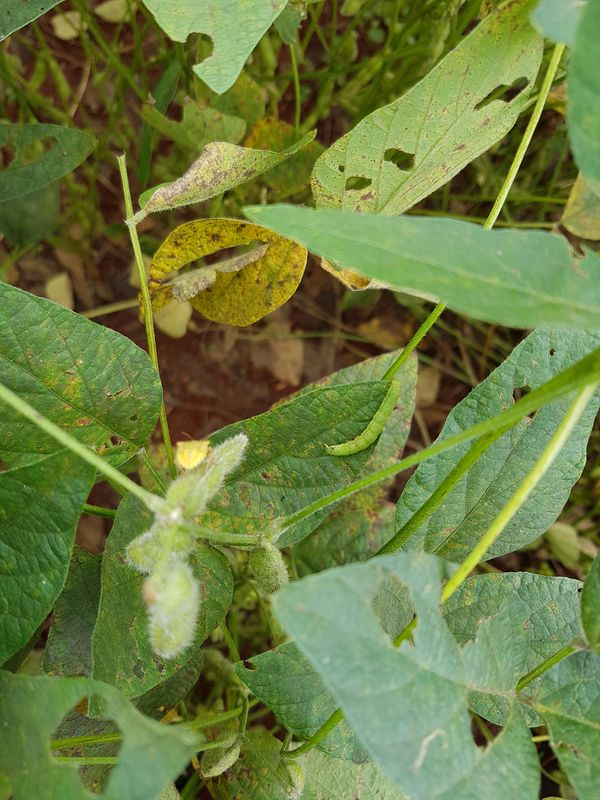Anticarsia_gemmatalis: (318, 374, 406, 462)
Euschistus_heros_ninfa: (169, 430, 216, 475)
